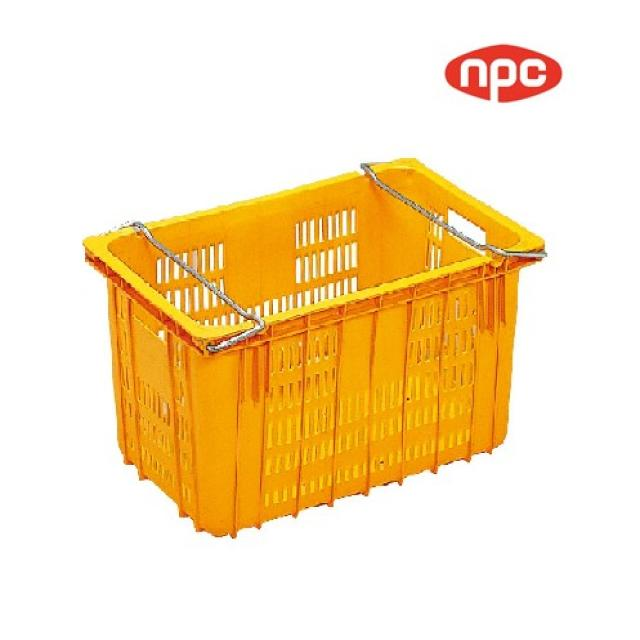basket: (57, 108, 601, 560)
